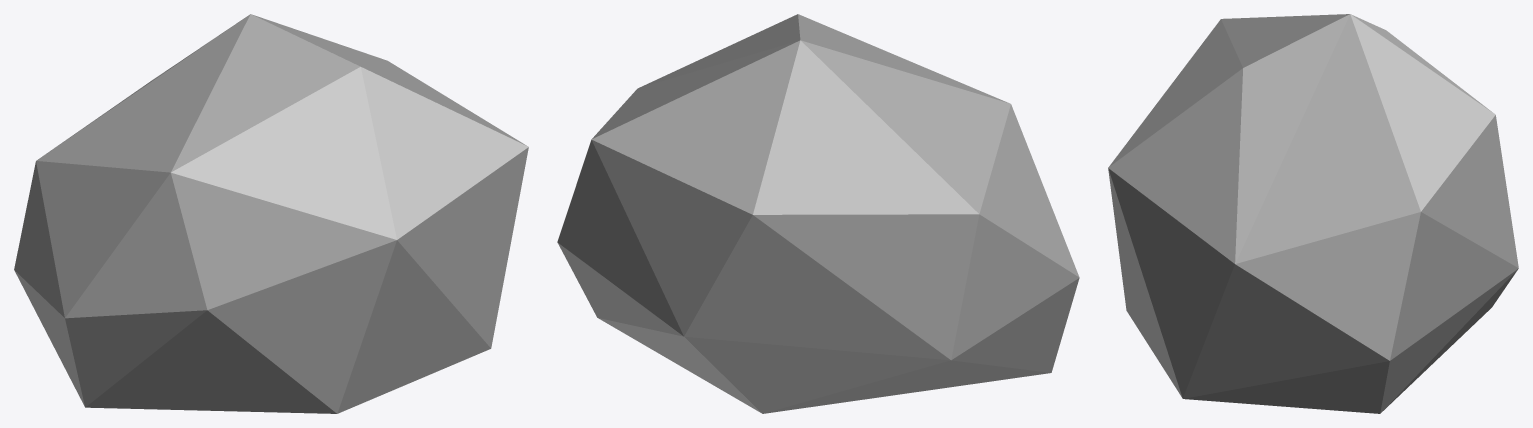
File: rock_14.fbx
The picture shows the model from 3 angles, left to right: view 1: azimuth 30°, elevation 25°; view 2: azimuth 150°, elevation 25°; view 3: azimuth 270°, elevation 25°; orthographic projection.
Parts seen in each view (by area): view 1: rock_14; view 2: rock_14; view 3: rock_14.
Boxes of the visible parts, x1,y1,x2,y2 form: rock_14: (14,14,528,413); rock_14: (557,14,1079,413); rock_14: (1108,14,1518,413).
Bounding box in the file's own units: 41.24 × 27.06 × 32.52.
